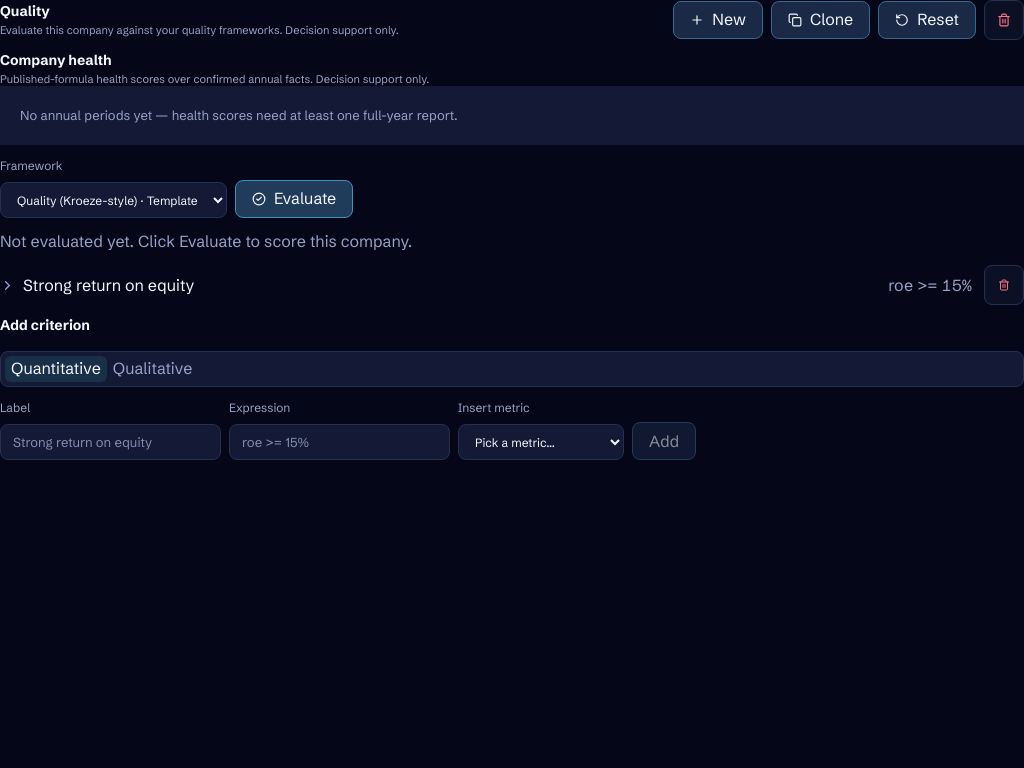
Test: QualityPanel › inserts a picked metric into the expression
This screenshot has width=1024, height=768.
Expected: the text "Strong return on equity" is shown, [23,275,194,295]
Select "Return on equity (roe)" in the dropdown labelled "Insert metric": (541, 442) [458,424,624,460]
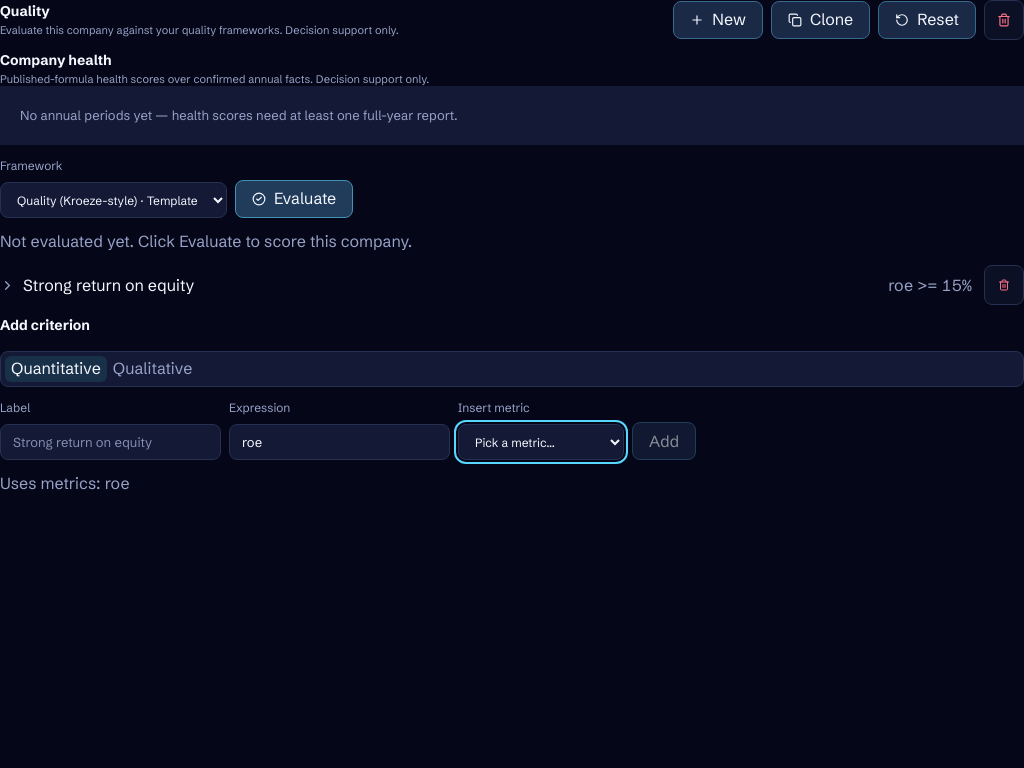
Result: the field with placeholder "roe >= 15%" holds "roe" at [229,424,450,460]
